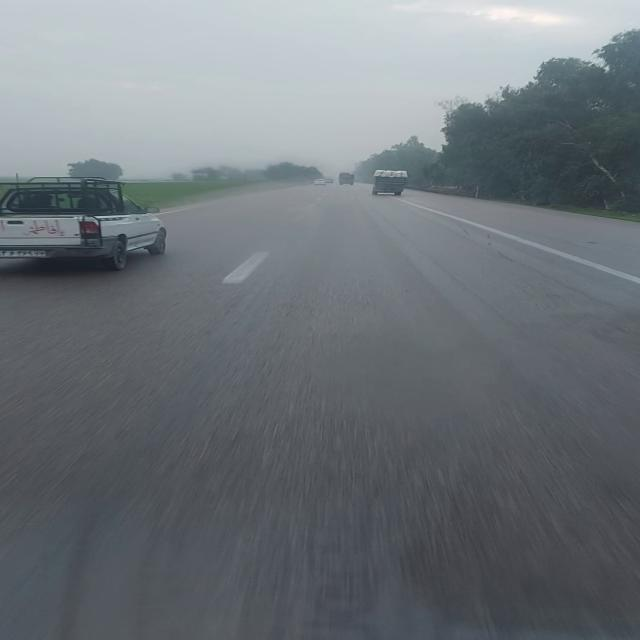Car: (313, 179, 325, 187)
Pickup: (3, 173, 178, 275), (370, 169, 410, 197)
Truck: (190, 169, 210, 181), (338, 173, 356, 185), (325, 178, 335, 184)
